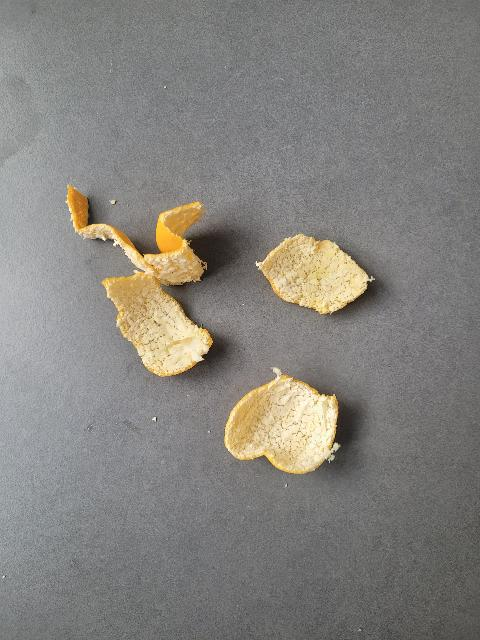Organik: (224, 367, 341, 486), (66, 191, 209, 288), (97, 270, 216, 378), (259, 232, 371, 315)
